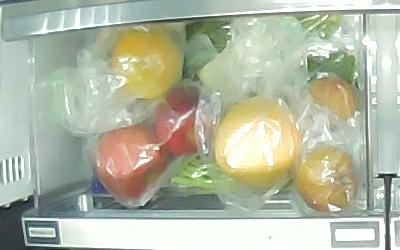apple_vinyl: (94, 123, 173, 200), (156, 87, 218, 157)
grapefruit_vinyl: (215, 95, 302, 189)
persimmon_vinyl: (111, 28, 185, 100)
prune_vinyl: (296, 147, 358, 212)
